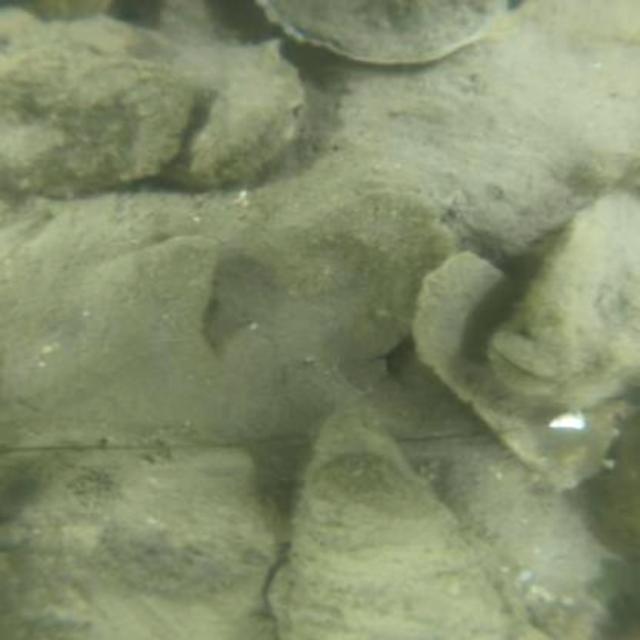Oyster-Closed: (0, 446, 286, 638), (405, 249, 617, 494), (279, 428, 521, 633), (1, 14, 192, 194), (495, 185, 636, 406), (438, 441, 601, 608), (190, 44, 304, 184), (261, 0, 495, 60)
